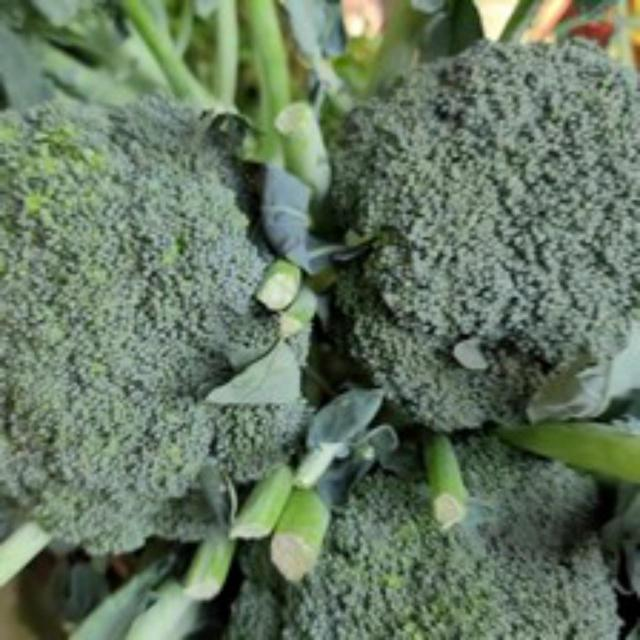broccoli: (328, 37, 637, 445)
